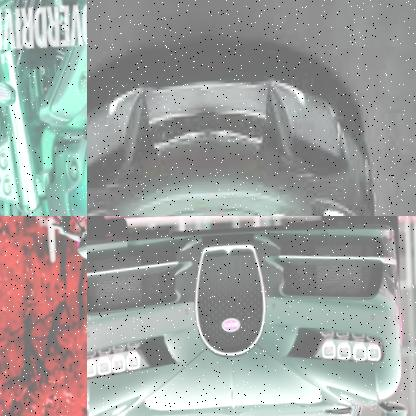bike: (35, 216, 87, 326)
car: (87, 216, 416, 416), (87, 64, 388, 216)
